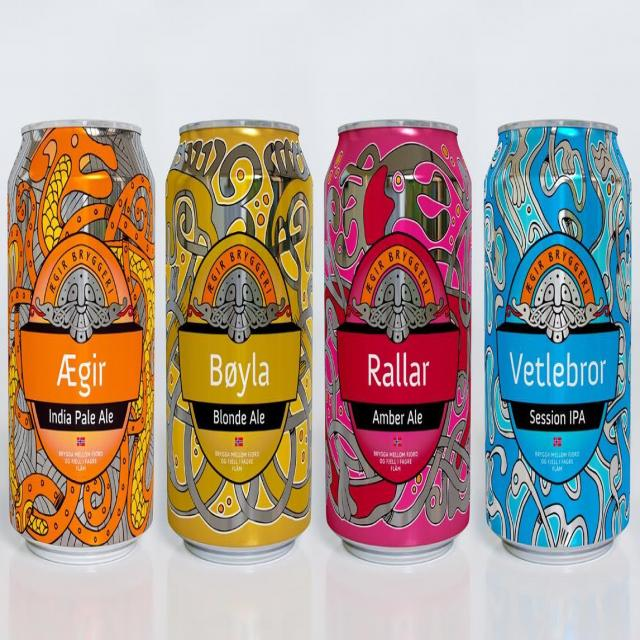metel: (472, 120, 636, 567), (164, 116, 323, 570), (3, 117, 162, 566), (324, 115, 472, 569)
